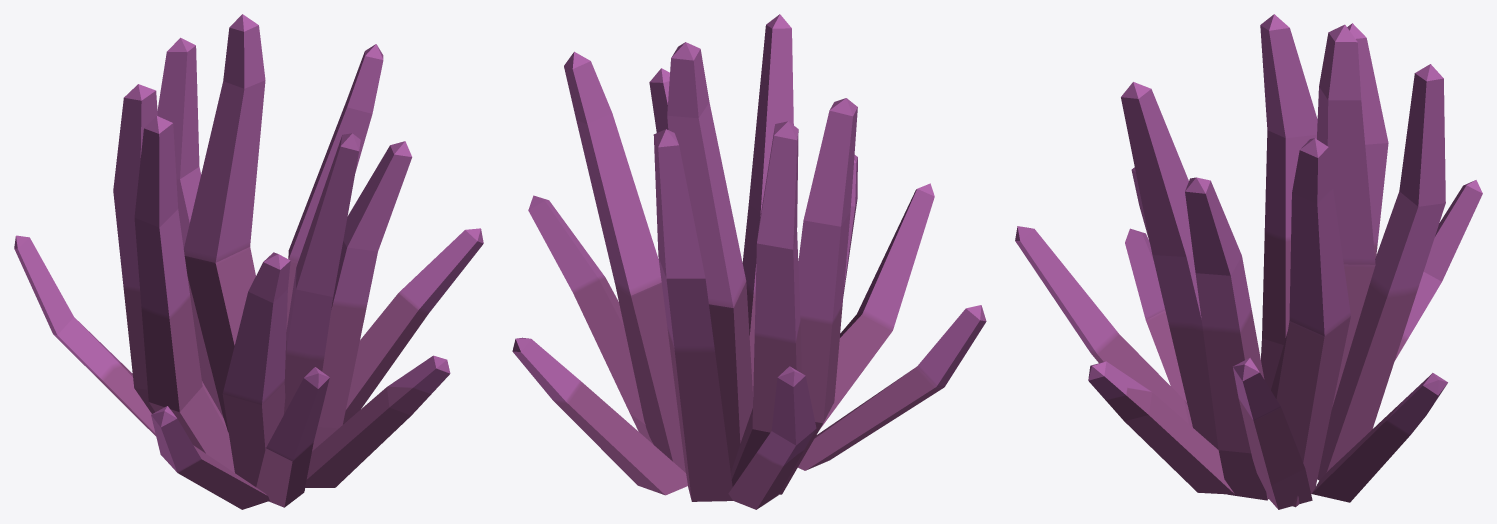
Rendered from SM_Prop_Coral_01.glb.
3 renders of one model, left to right at view 1: azimuth 30°, elevation 25°; view 2: azimuth 150°, elevation 25°; view 3: azimuth 270°, elevation 25°, orthographic. The views are drawn at different scales.
Parts seen in each view (by area): view 1: SM_Prop_Coral_01; view 2: SM_Prop_Coral_01; view 3: SM_Prop_Coral_01.
Boxes of the visible parts, x1,y1,x2,y2 form: SM_Prop_Coral_01: [14, 14, 483, 509]; SM_Prop_Coral_01: [512, 14, 986, 509]; SM_Prop_Coral_01: [1015, 14, 1482, 509].
Size of the model in its own units: 0.2556 by 0.2772 by 0.2574.
1 material, 1 textured.
